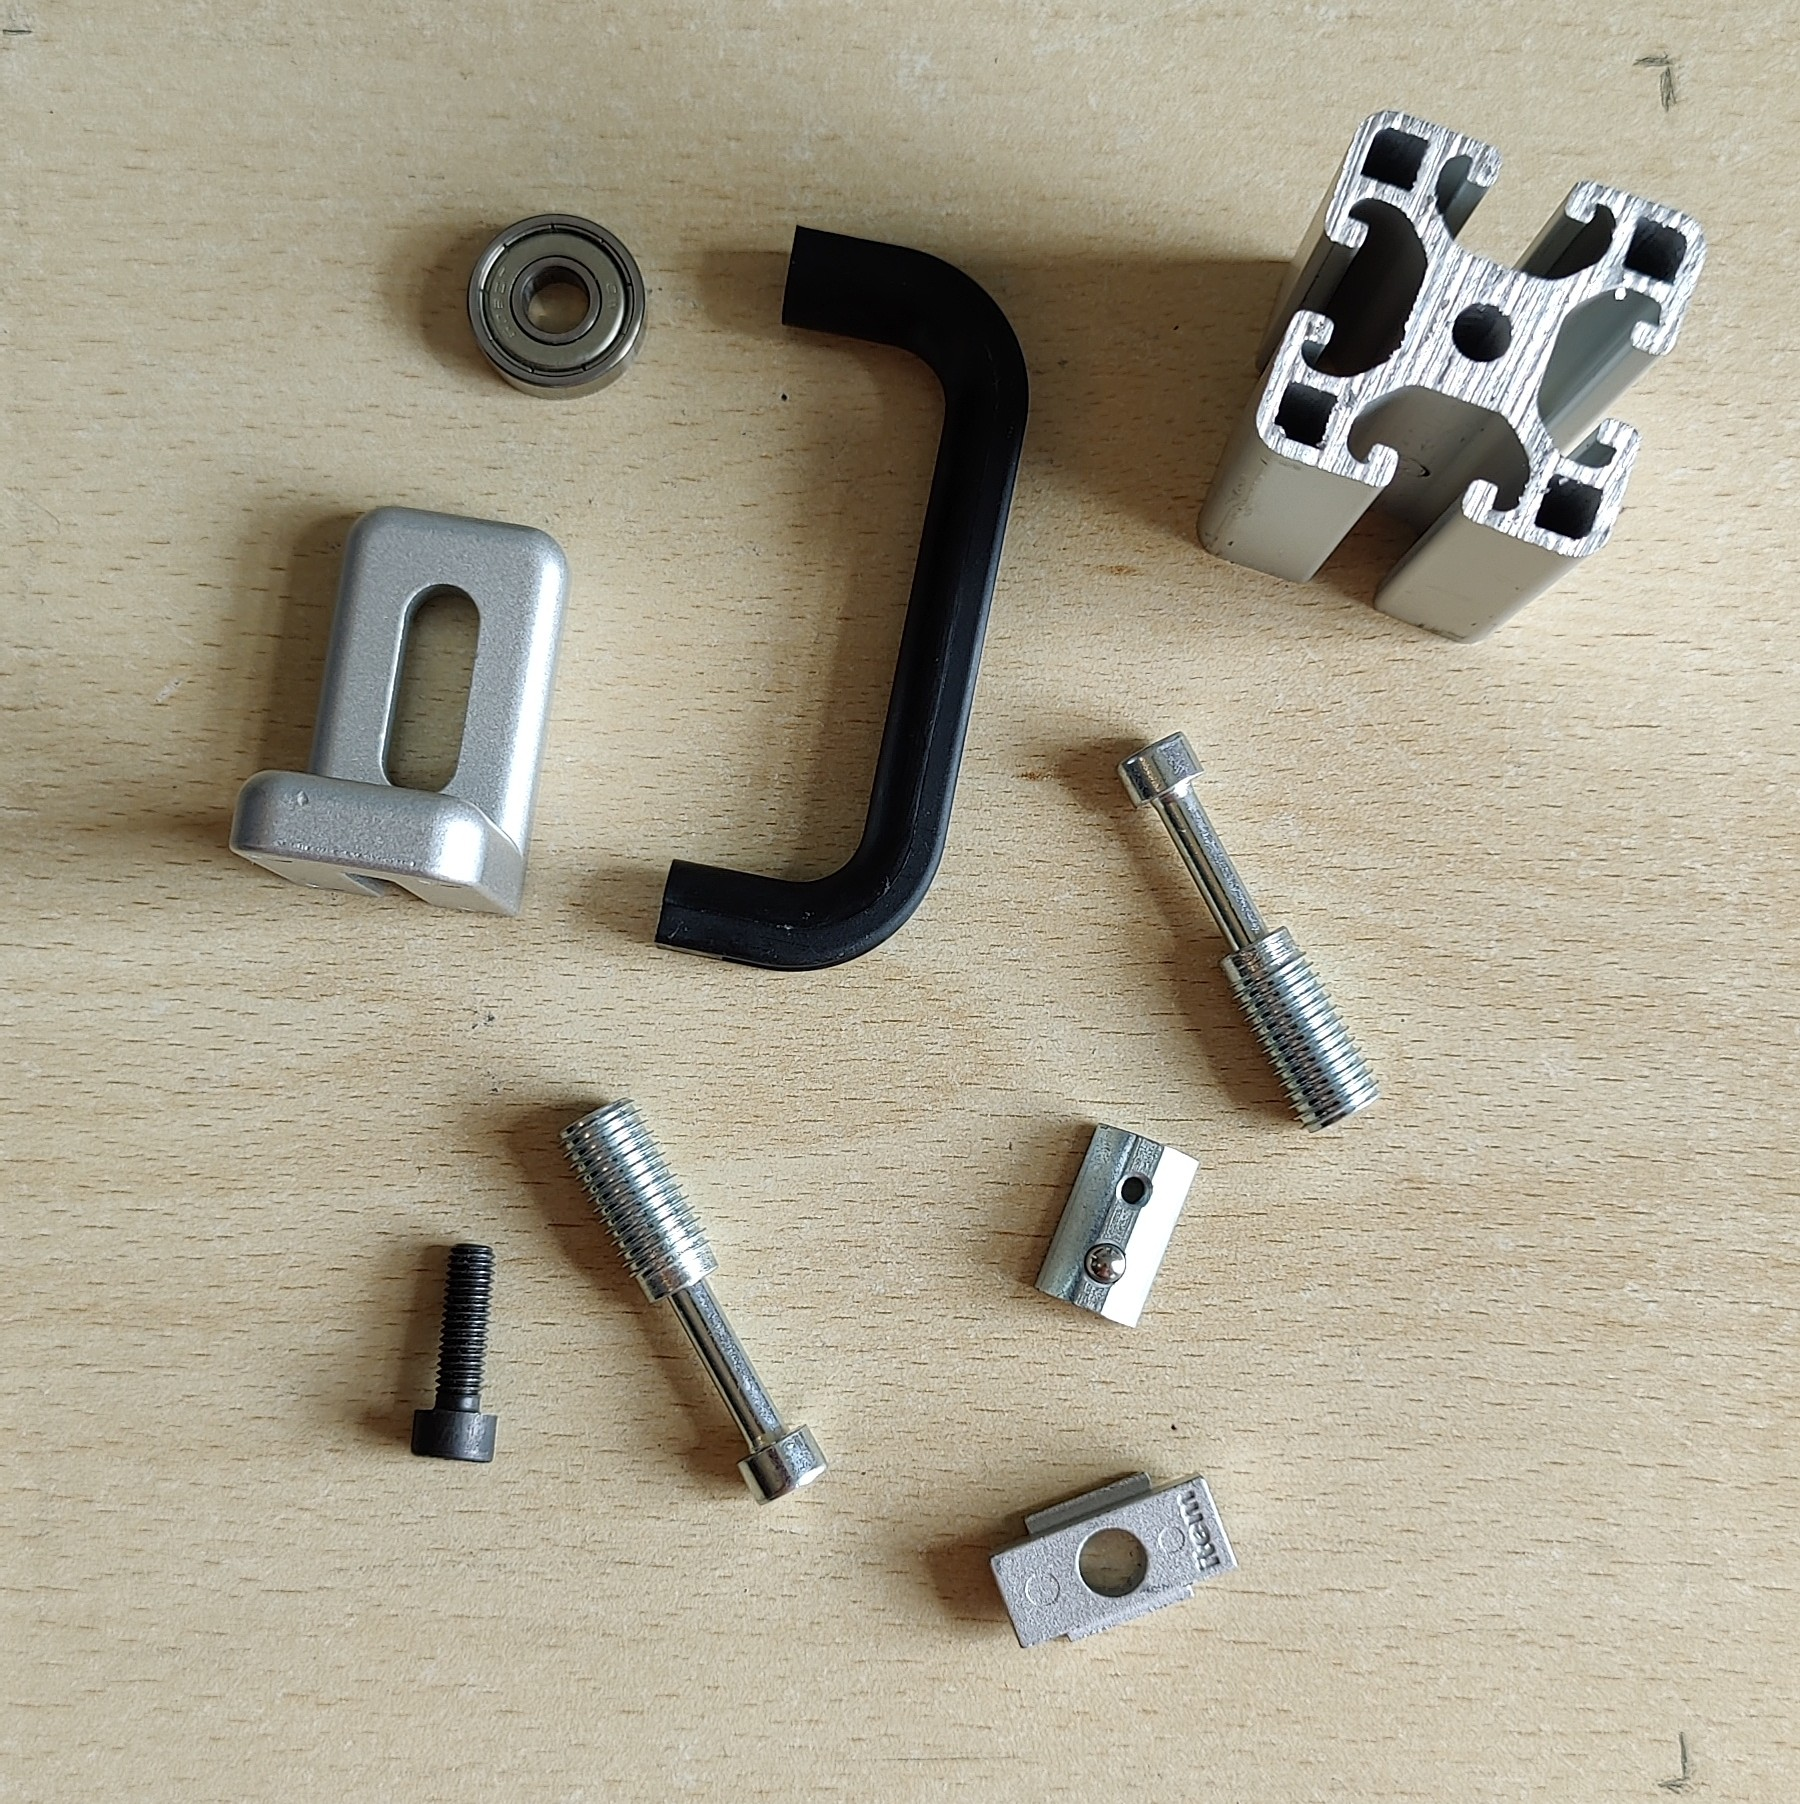Aluminium Extension: (1193, 107, 1708, 646)
Ball Bearing: (463, 209, 648, 401)
Multiwinkel: (224, 500, 570, 918)
Pull Handle: (651, 219, 1030, 975)
Shoulder Socket Head Cap Screw: (557, 1093, 831, 1507), (1113, 729, 1383, 1138)
Socket Head Cap Screw: (407, 1238, 503, 1468)
T Nut Square: (986, 1468, 1238, 1652)
T Spring Nut: (1030, 1120, 1200, 1332)
